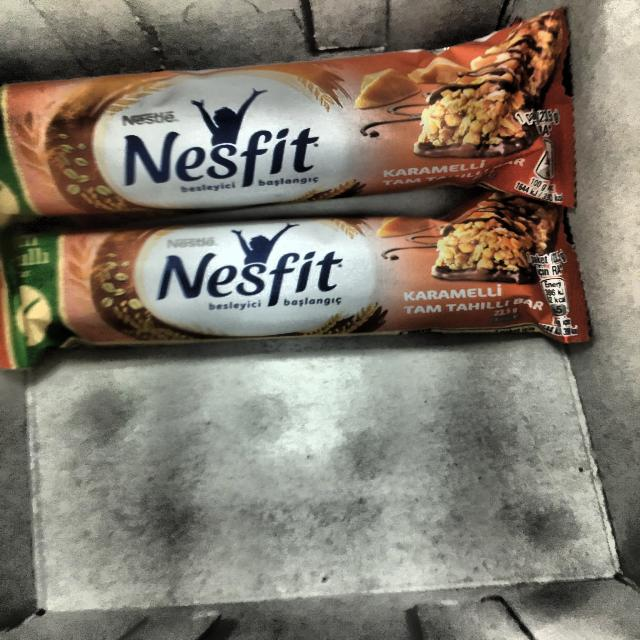Plastic: (2, 10, 585, 227), (7, 202, 592, 386)
